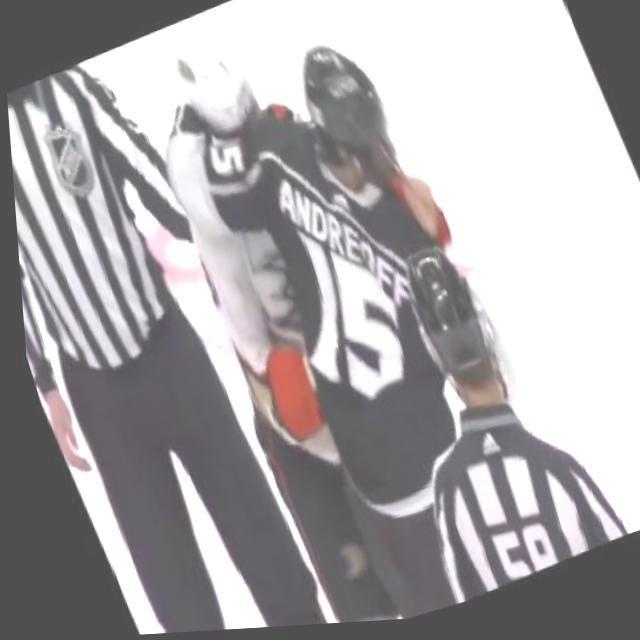fight: (93, 0, 546, 561)
